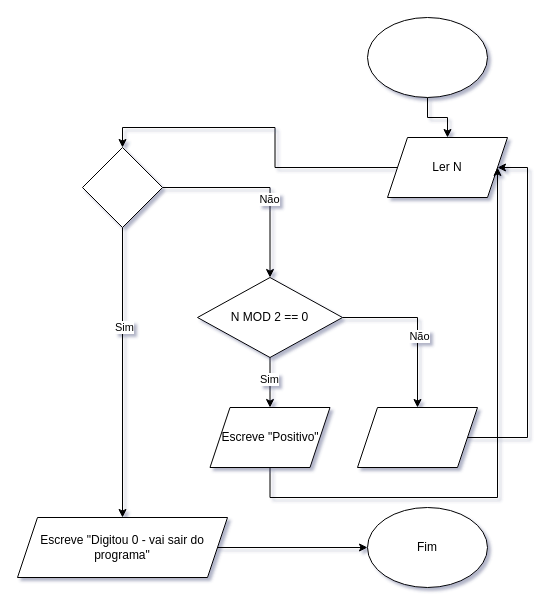
Some shapes in this 559 by 611 pixel diagram are drawn without their labels. The shapes that lost their labels are listed below. From the top down, each one's centre as x and y in pixels, then its label:
point 427,57: Ínicio
point 122,187: N == 0
point 417,437: Escreve "Negativo"
